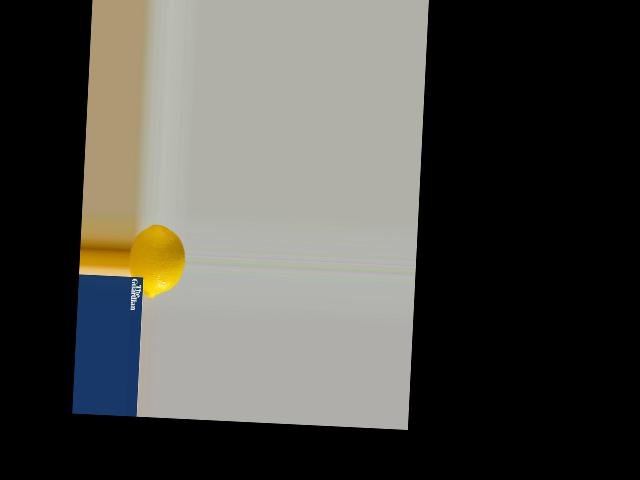lemon: (127, 222, 186, 297)
